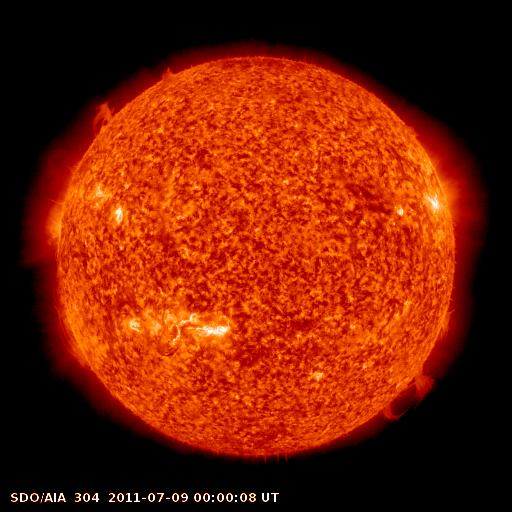prominence: (50, 273, 92, 374), (374, 365, 445, 424), (83, 94, 115, 142), (432, 295, 459, 345), (154, 58, 186, 91)
